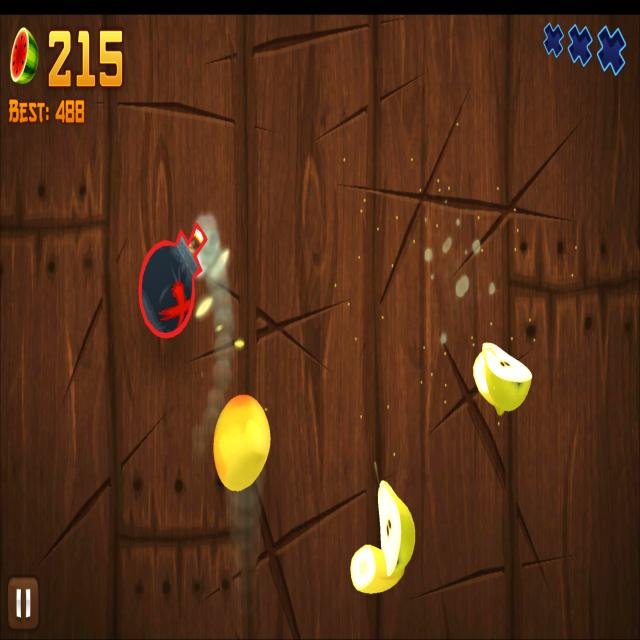bomb: (138, 220, 208, 339)
fruit: (213, 394, 271, 493)
